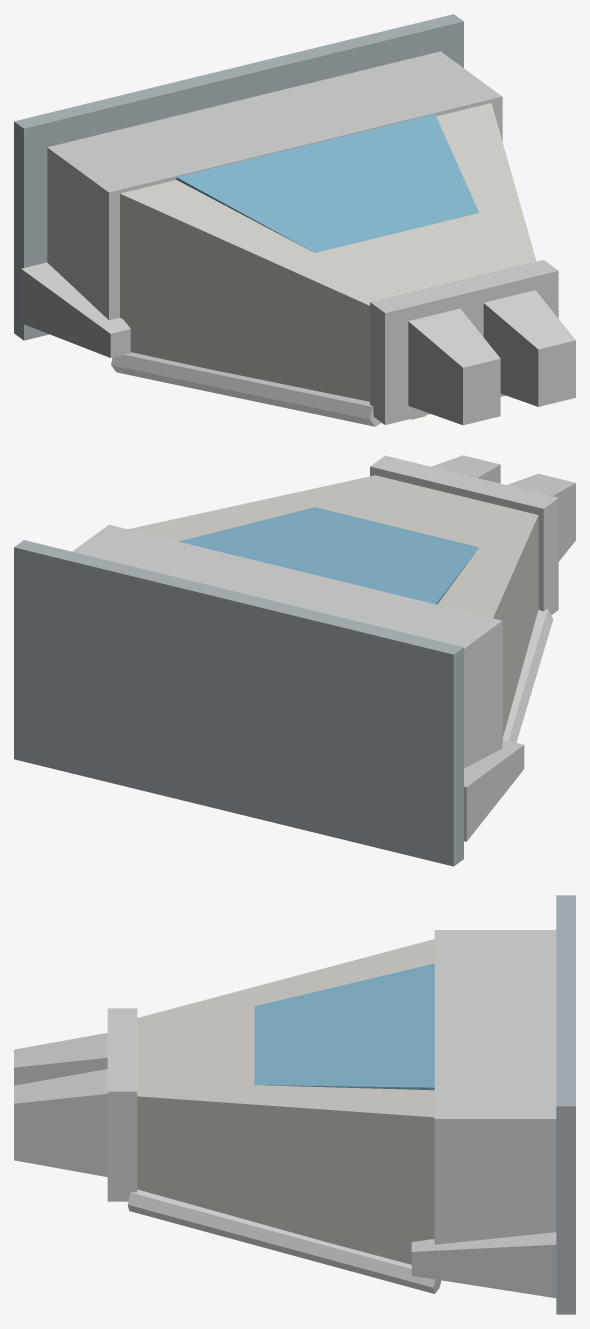
File: 03_research_monument.glb
3 renders of one model, top to bottom at view 1: azimuth 30°, elevation 25°; view 2: azimuth 150°, elevation 25°; view 3: azimuth 270°, elevation 25°, orthographic.
Parts seen in each view (by area): view 1: 03_research_monument_part_003, 03_research_monument_part_001, 03_research_monument_part_004, 03_research_monument_part_000, 03_research_monument_part_011, 03_research_monument_part_012, 03_research_monument_part_013, 03_research_monument_part_005, 03_research_monument_part_014; view 2: 03_research_monument_part_000, 03_research_monument_part_003, 03_research_monument_part_001, 03_research_monument_part_004, 03_research_monument_part_011, 03_research_monument_part_014, 03_research_monument_part_005, 03_research_monument_part_012, 03_research_monument_part_013; view 3: 03_research_monument_part_003, 03_research_monument_part_001, 03_research_monument_part_004, 03_research_monument_part_013, 03_research_monument_part_000, 03_research_monument_part_015, 03_research_monument_part_008, 03_research_monument_part_011, 03_research_monument_part_012.
Boxes of the visible parts, left/top/right/bottom form: 03_research_monument_part_003: left=120, top=103, right=536, bottom=401; 03_research_monument_part_001: left=47, top=51, right=502, bottom=320; 03_research_monument_part_004: left=176, top=114, right=479, bottom=252; 03_research_monument_part_000: left=14, top=14, right=463, bottom=340; 03_research_monument_part_011: left=370, top=260, right=558, bottom=424; 03_research_monument_part_012: left=408, top=308, right=500, bottom=425; 03_research_monument_part_013: left=483, top=290, right=575, bottom=406; 03_research_monument_part_005: left=111, top=352, right=381, bottom=426; 03_research_monument_part_014: left=21, top=262, right=130, bottom=357; 03_research_monument_part_000: left=14, top=540, right=463, bottom=866; 03_research_monument_part_003: left=128, top=475, right=538, bottom=737; 03_research_monument_part_001: left=72, top=524, right=502, bottom=768; 03_research_monument_part_004: left=179, top=507, right=478, bottom=604; 03_research_monument_part_011: left=370, top=455, right=558, bottom=614; 03_research_monument_part_014: left=464, top=740, right=524, bottom=841; 03_research_monument_part_005: left=502, top=609, right=553, bottom=742; 03_research_monument_part_012: left=507, top=473, right=575, bottom=561; 03_research_monument_part_013: left=431, top=455, right=500, bottom=483; 03_research_monument_part_003: left=137, top=939, right=434, bottom=1264; 03_research_monument_part_001: left=434, top=930, right=556, bottom=1279; 03_research_monument_part_004: left=254, top=963, right=434, bottom=1090; 03_research_monument_part_013: left=14, top=1069, right=107, bottom=1176; 03_research_monument_part_000: left=556, top=895, right=575, bottom=1314; 03_research_monument_part_015: left=411, top=1232, right=556, bottom=1298; 03_research_monument_part_008: left=127, top=1189, right=441, bottom=1293; 03_research_monument_part_011: left=107, top=1008, right=137, bottom=1201; 03_research_monument_part_012: left=14, top=1033, right=107, bottom=1085.
Size of the model in its own units: 7.7 by 3.5 by 8.55.
